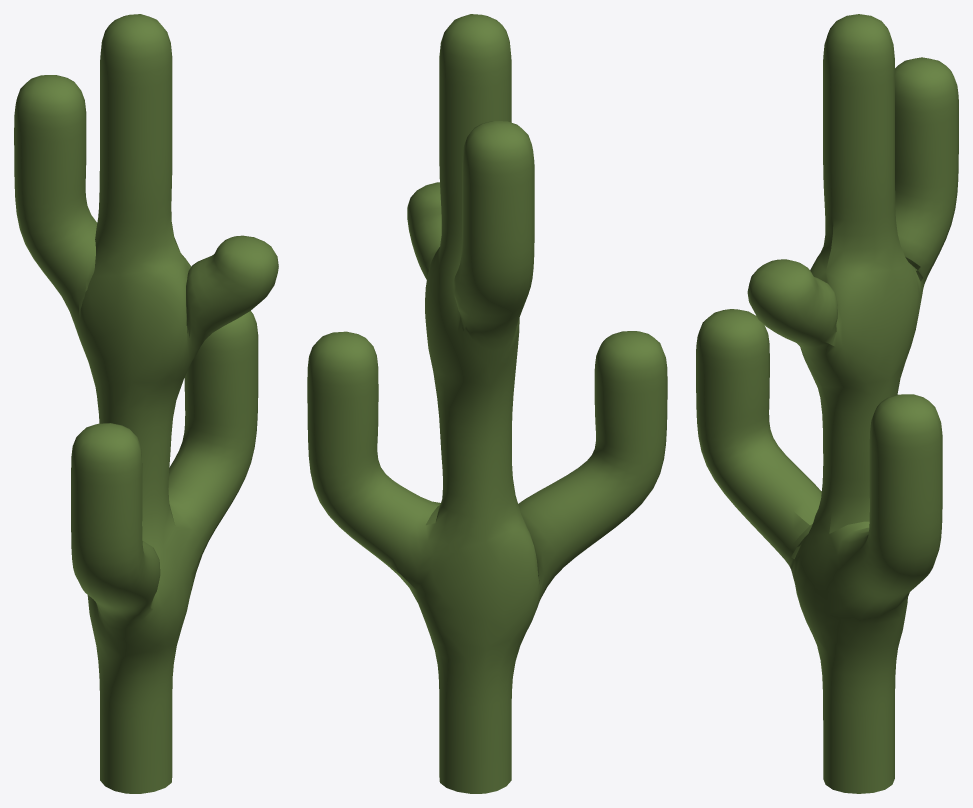
File: Cactus.fbx
3 renders of one model, left to right at view 1: azimuth 30°, elevation 25°; view 2: azimuth 150°, elevation 25°; view 3: azimuth 270°, elevation 25°, orthographic.
Visible parts, largest first — view 1: Cube.003; view 2: Cube.003; view 3: Cube.003.
Boxes of the visible parts, x1,y1,x2,y2 form: Cube.003: [14, 14, 278, 793]; Cube.003: [307, 14, 667, 793]; Cube.003: [696, 14, 958, 793].
Size of the model in its own units: 1.95 by 5.34 by 1.67.
